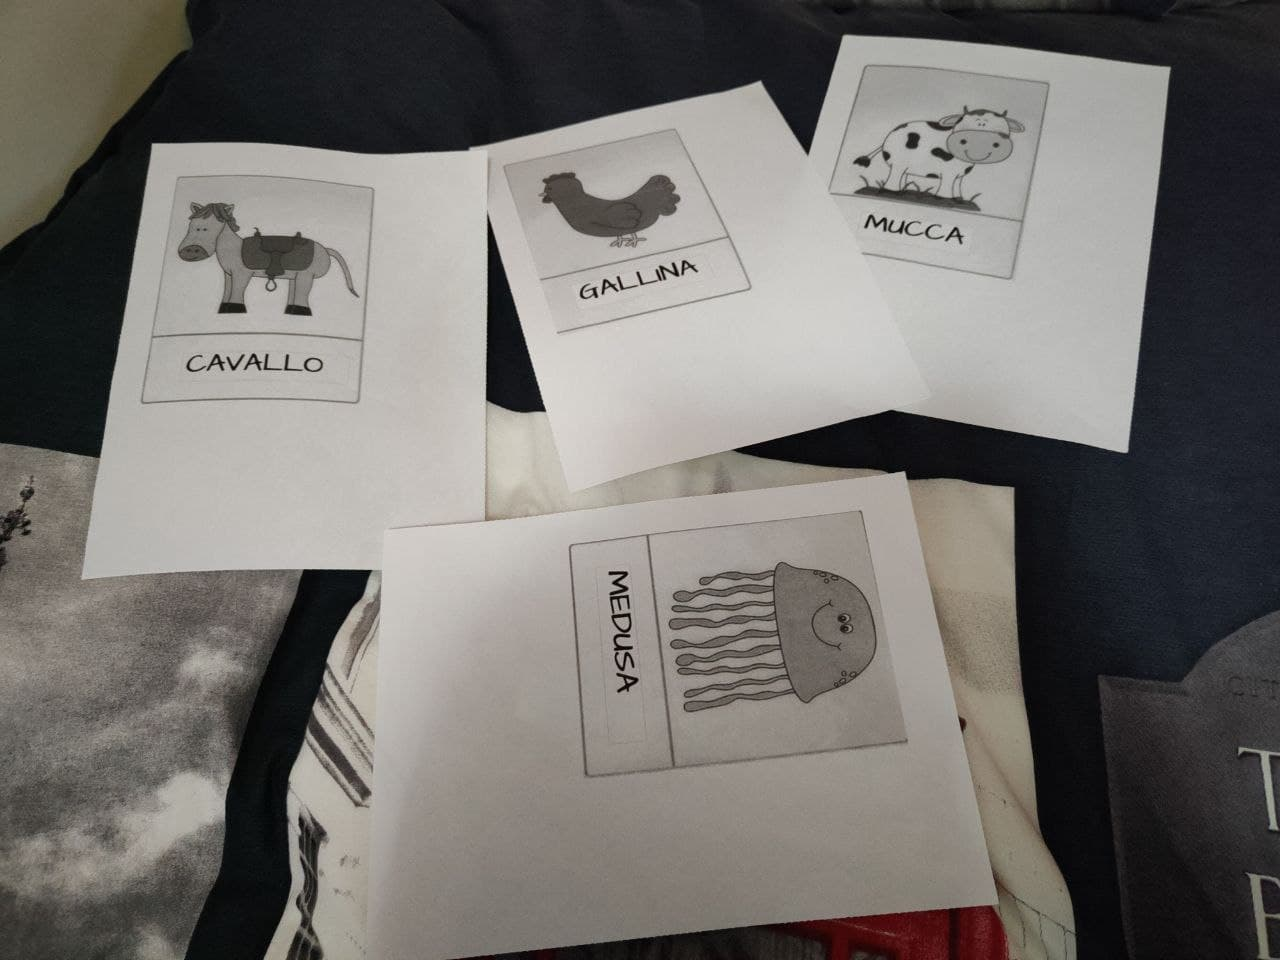cavallo: (170, 189, 362, 399)
gallina: (529, 152, 734, 332)
medusa: (597, 543, 911, 742)
mucca: (848, 79, 1020, 270)
